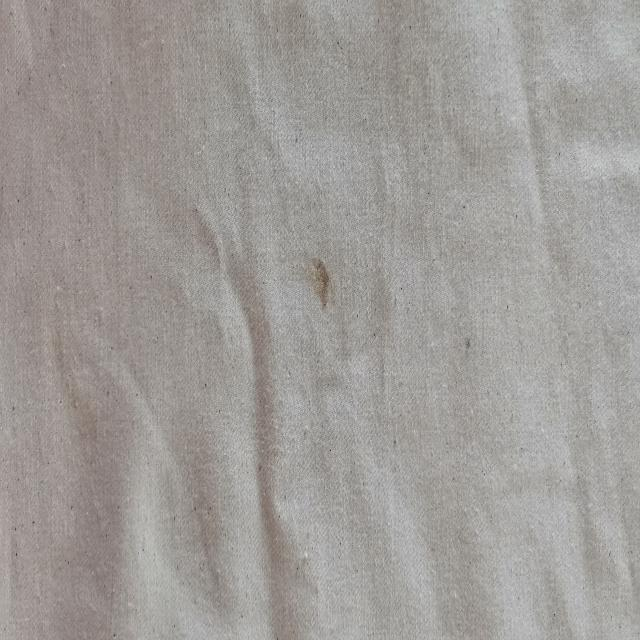taaaches: (292, 227, 338, 325)
